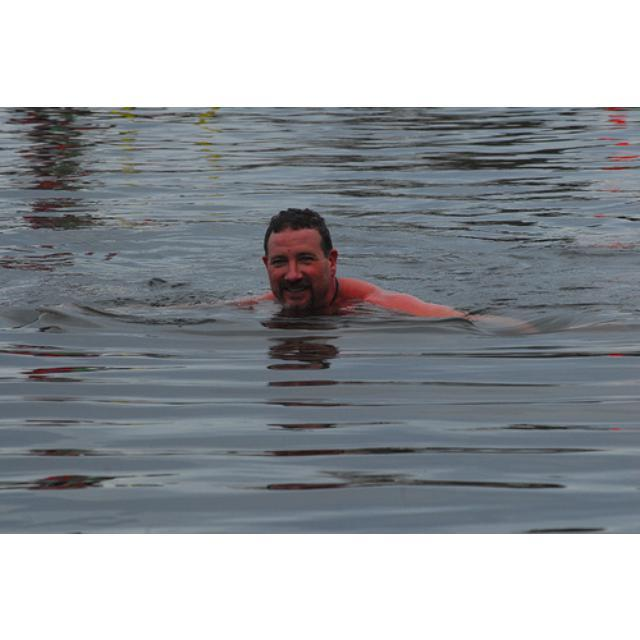human: (243, 204, 472, 324)
